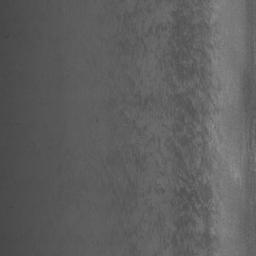Silk spot: (91, 0, 232, 256)
